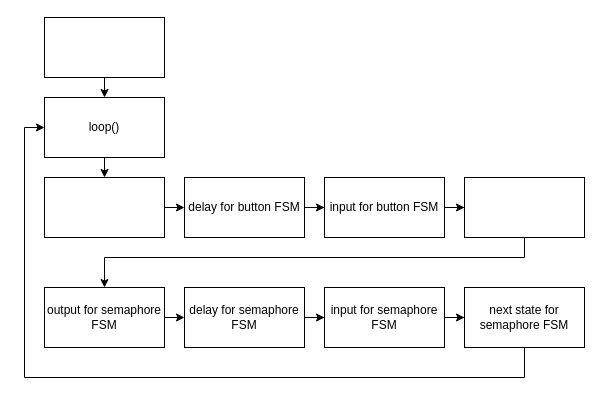
The diagram is 602 pixels wide and 403 high, and some of its shapes have lost their labels. Each missing label, with the centre of its shape:
"next state for button FSM" belongs at (524,207).
"output for button FSM" belongs at (104,207).
"Start" belongs at (104,47).
